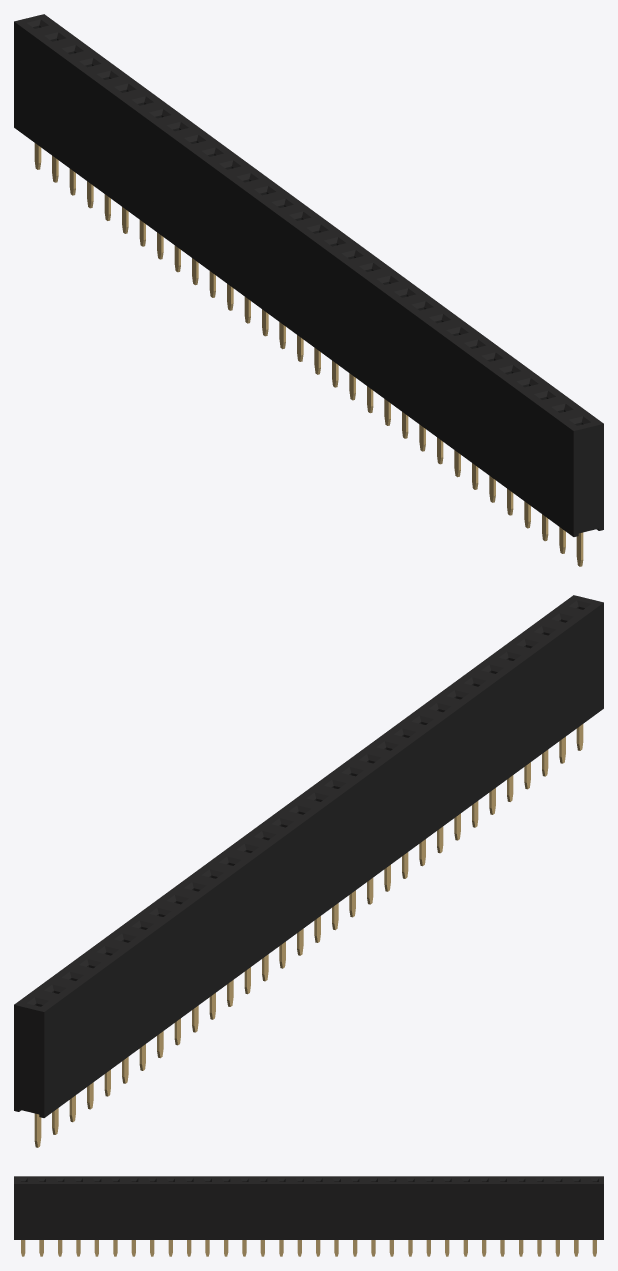
Rendered from kc-pinsocket_1x32_p2.54mm_vertical.glb.
The picture shows the model from 3 angles, top to bottom: view 1: azimuth 30°, elevation 25°; view 2: azimuth 150°, elevation 25°; view 3: azimuth 270°, elevation 25°; orthographic projection. The views are drawn at different scales.
Visible parts, largest first — view 1: 0_0_0_0, 0.75_0.5_0.25_0.9; view 2: 0_0_0_0, 0.75_0.5_0.25_0.9; view 3: 0_0_0_0, 0.75_0.5_0.25_0.9.
Part boxes in pixels (x1,y1,x2,y2): 0_0_0_0: [14, 14, 603, 536]; 0.75_0.5_0.25_0.9: [34, 143, 583, 566]; 0_0_0_0: [14, 595, 603, 1117]; 0.75_0.5_0.25_0.9: [34, 724, 583, 1147]; 0_0_0_0: [14, 1176, 603, 1239]; 0.75_0.5_0.25_0.9: [21, 1240, 596, 1256].
Bounding box in the file's own units: 0.254 × 1.16 × 8.13.
